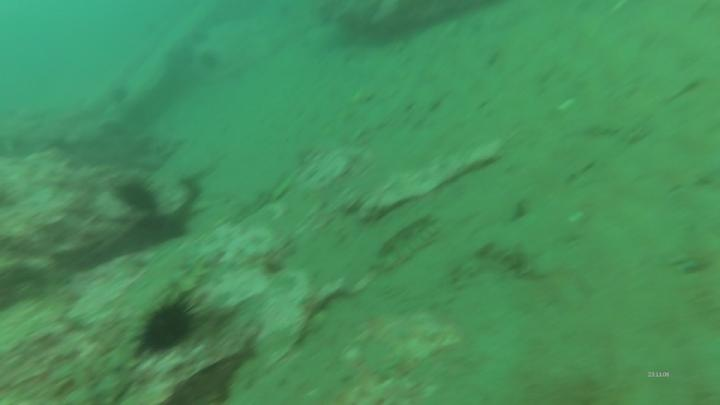echinus: (122, 288, 209, 361), (115, 175, 160, 215)
